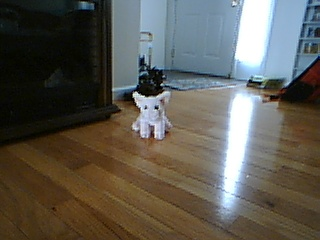piggy: (130, 89, 173, 141)
